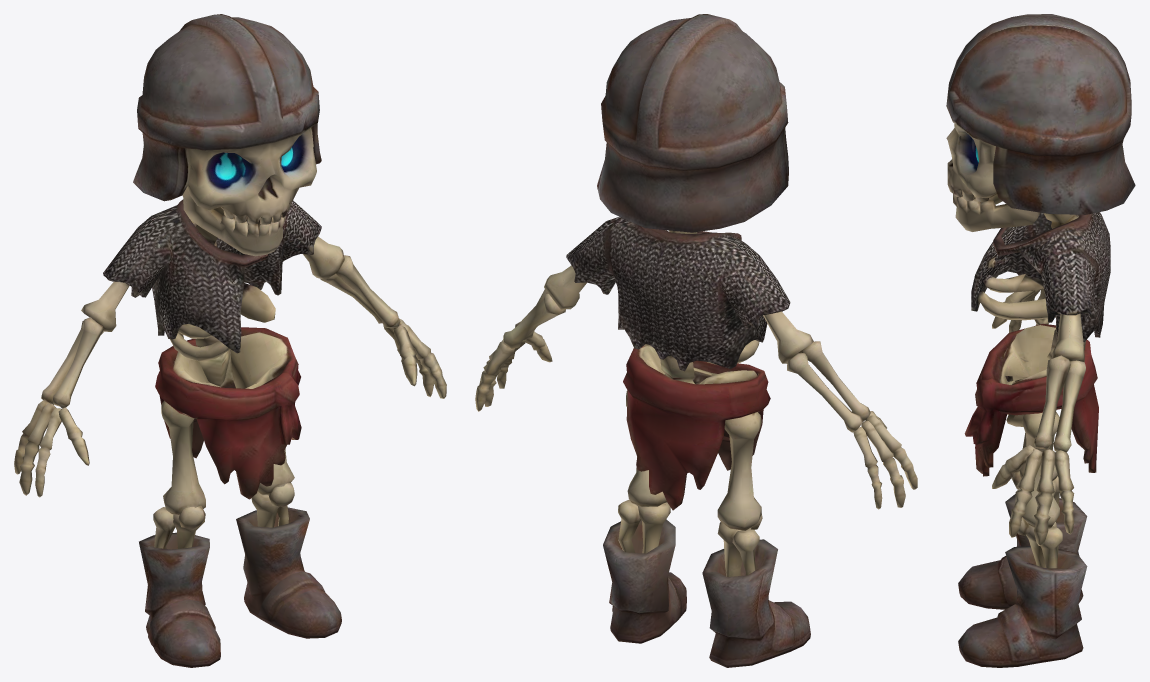
The model's file is skeleton-normal.glb.
3 views of the same model, side by side, from view 1: azimuth 30°, elevation 25°; view 2: azimuth 150°, elevation 25°; view 3: azimuth 270°, elevation 25° (orthographic). The views are drawn at different scales.
Visible parts, largest first — view 1: tripo_node_9ac7547e-958f-4d49-902c-376736e31109; view 2: tripo_node_9ac7547e-958f-4d49-902c-376736e31109; view 3: tripo_node_9ac7547e-958f-4d49-902c-376736e31109.
Part boxes in pixels (box(x1,y1,x2,y2)): tripo_node_9ac7547e-958f-4d49-902c-376736e31109: box(14, 14, 446, 667); tripo_node_9ac7547e-958f-4d49-902c-376736e31109: box(475, 14, 917, 667); tripo_node_9ac7547e-958f-4d49-902c-376736e31109: box(946, 14, 1135, 667).
Size of the model in its own units: 0.7246 by 0.998 by 0.2832.
1 material, 1 textured.
